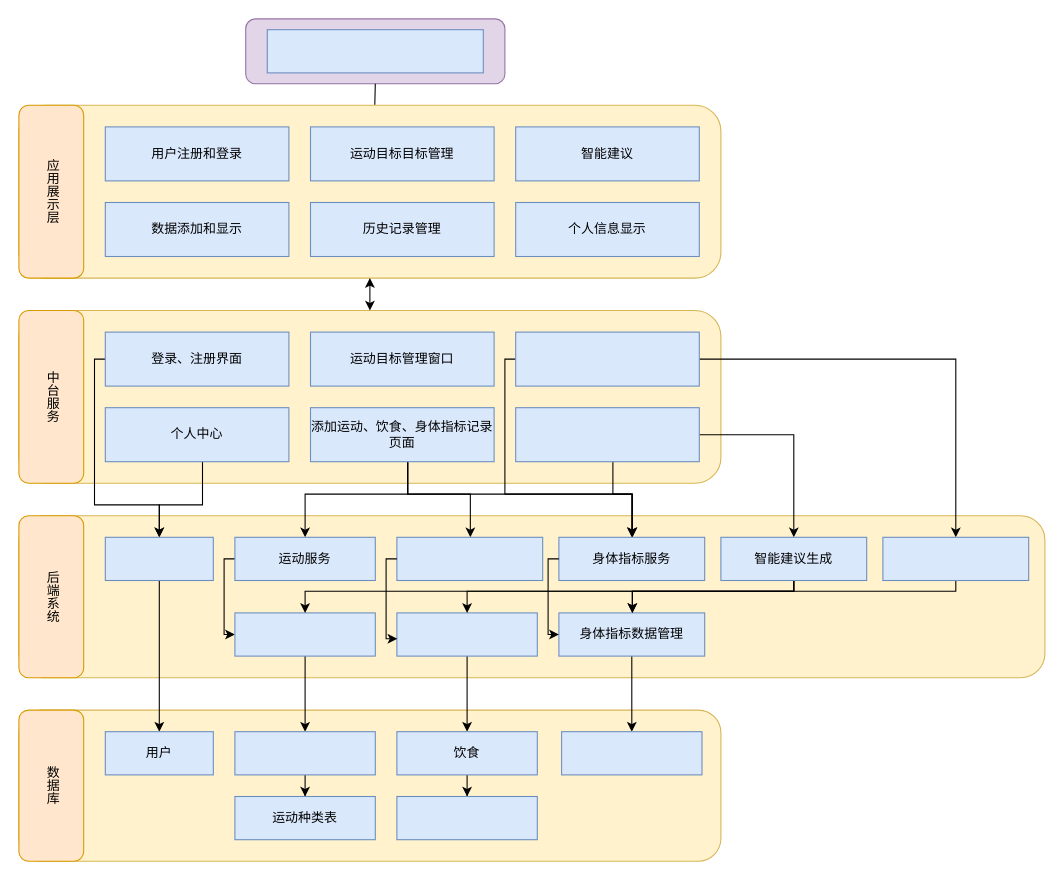
The diagram is 1064 pixels wide and 880 high, and some of its shapes have lost their labels. Here are the shapes that lost their labels. From the top down, the box of each, then its label:
(266, 29, 483, 73): 小程序
(515, 331, 699, 386): 历史记录界面
(515, 407, 699, 462): Today界面
(104, 536, 213, 580): 用户服务
(396, 536, 543, 580): 饮食服务
(882, 536, 1029, 580): 历史记录可视化
(234, 612, 375, 656): 运动数据管理
(396, 612, 537, 656): 饮食数据管理
(234, 731, 375, 775): 运动
(561, 731, 702, 775): 身体指标
(396, 795, 537, 840): 饮食种类表
